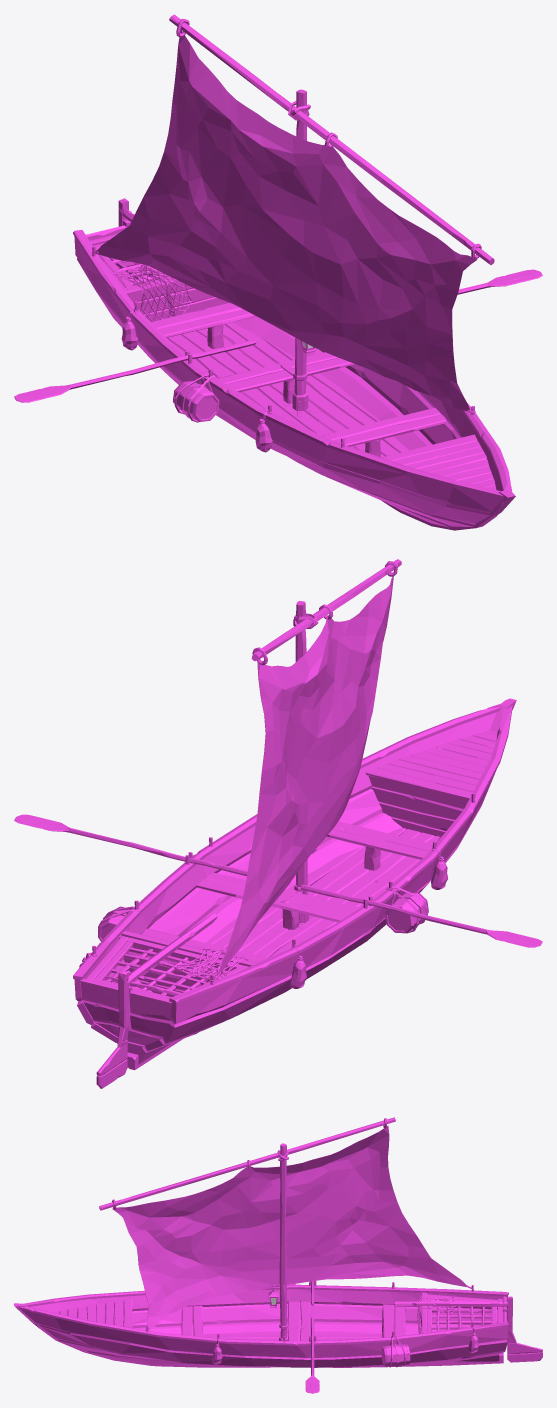
Rendered from SM_Ship_Medium_Fantasy.fbx.
3 views of the same model, one above another, from view 1: azimuth 30°, elevation 25°; view 2: azimuth 150°, elevation 25°; view 3: azimuth 270°, elevation 25° (orthographic). The views are drawn at different scales.
Parts seen in each view (by area): view 1: SM_Ship_Medium_Fantasy_Base, SM_Ship_Medium_Fantasy_Paddle_R, SM_Ship_Medium_Fantasy_Cage, SM_Ship_Medium_Fantasy_Paddle_L; view 2: SM_Ship_Medium_Fantasy_Base, SM_Ship_Medium_Fantasy_Cage, SM_Ship_Medium_Fantasy_Rudder, SM_Ship_Medium_Fantasy_Paddle_R, SM_Ship_Medium_Fantasy_Paddle_L; view 3: SM_Ship_Medium_Fantasy_Base, SM_Ship_Medium_Fantasy_Rudder, SM_Ship_Medium_Fantasy_Cage, SM_Ship_Medium_Fantasy_Paddle_L.
Boxes of the visible parts, x1,y1,x2,y2 form: SM_Ship_Medium_Fantasy_Base: (73,14,515,530); SM_Ship_Medium_Fantasy_Paddle_R: (14,339,256,402); SM_Ship_Medium_Fantasy_Cage: (93,243,171,289); SM_Ship_Medium_Fantasy_Paddle_L: (457,269,542,294); SM_Ship_Medium_Fantasy_Base: (73,559,516,1070); SM_Ship_Medium_Fantasy_Cage: (91,937,248,999); SM_Ship_Medium_Fantasy_Rudder: (96,913,217,1088); SM_Ship_Medium_Fantasy_Paddle_R: (300,884,542,947); SM_Ship_Medium_Fantasy_Paddle_L: (14,814,247,876); SM_Ship_Medium_Fantasy_Base: (14,1117,508,1367); SM_Ship_Medium_Fantasy_Rudder: (395,1296,542,1362); SM_Ship_Medium_Fantasy_Cage: (427,1296,496,1332); SM_Ship_Medium_Fantasy_Paddle_L: (305,1317,319,1393).
Bounding box in the file's own units: 9.13 × 6.15 × 12.48.
